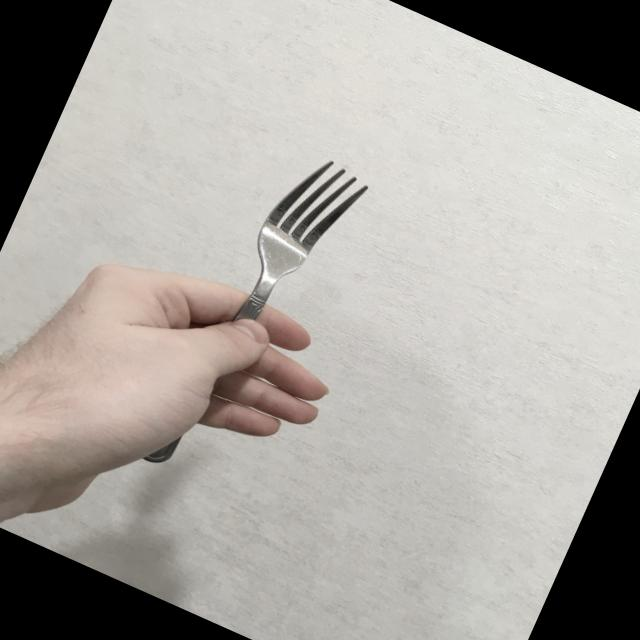fork: (144, 140, 376, 498)
